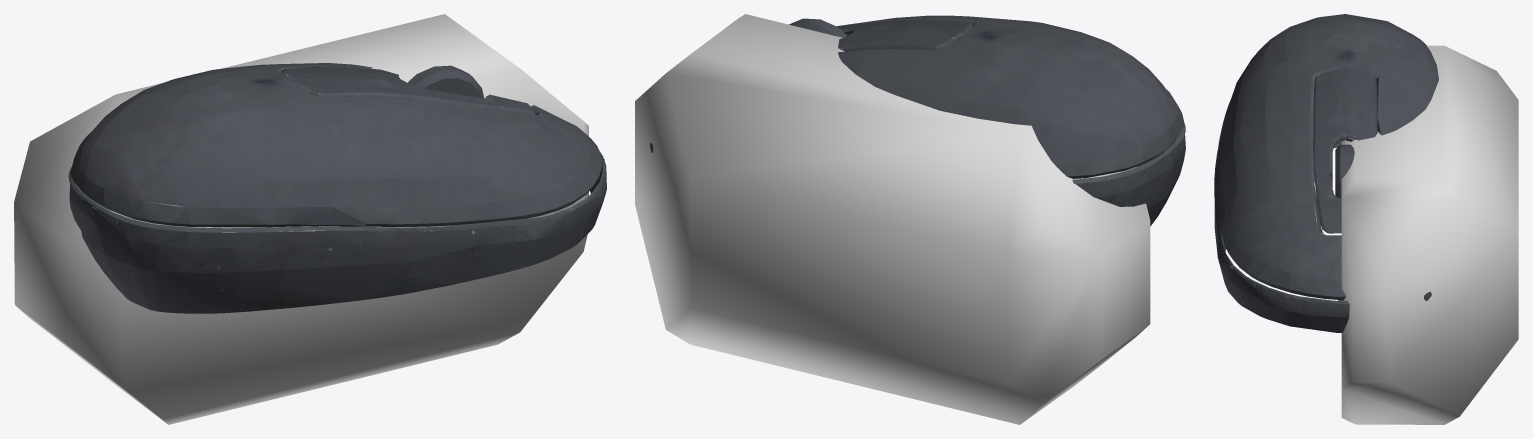
The model's file is SM_Mouse.fbx.
The picture shows the model from 3 angles, left to right: view 1: azimuth 30°, elevation 25°; view 2: azimuth 150°, elevation 25°; view 3: azimuth 270°, elevation 25°; orthographic projection. The views are drawn at different scales.
Parts seen in each view (by area): view 1: SM_Mouse, SM_Mouse_ConvexHulls; view 2: SM_Mouse_ConvexHulls, SM_Mouse; view 3: SM_Mouse_ConvexHulls, SM_Mouse.
Boxes of the visible parts, box(x1,y1,x2,y2) form: SM_Mouse: box(68, 63, 606, 313); SM_Mouse_ConvexHulls: box(14, 14, 588, 424); SM_Mouse_ConvexHulls: box(635, 14, 1150, 424); SM_Mouse: box(650, 15, 1185, 226); SM_Mouse_ConvexHulls: box(1341, 45, 1518, 424); SM_Mouse: box(1214, 14, 1438, 332).
Bounding box in the file's own units: 0.1528 × 0.0945 × 0.0944.
